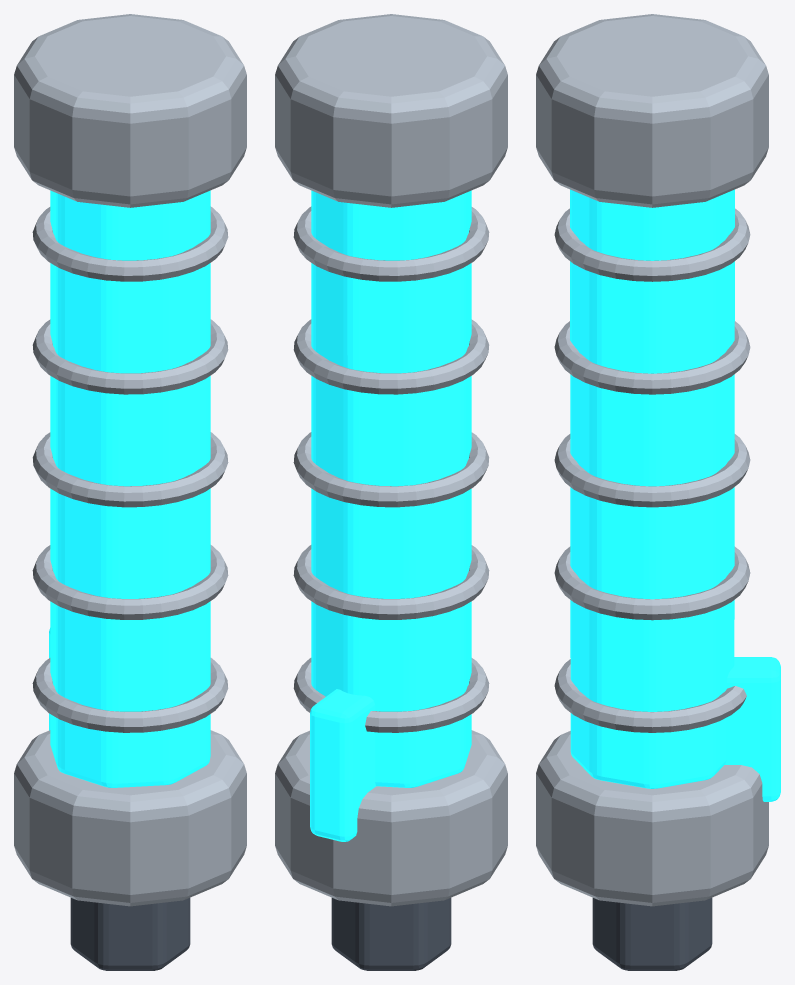
The model's file is energy-rod.glb.
3 renders of one model, left to right at view 1: azimuth 30°, elevation 25°; view 2: azimuth 150°, elevation 25°; view 3: azimuth 270°, elevation 25°, orthographic.
Visible parts, largest first — view 1: EnergyRod_Core, EnergyRod_Cap_Top, EnergyRod_Cap_Bottom, EnergyRod_Key, EnergyRod_CellRing_1, EnergyRod_CellRing_5, EnergyRod_CellRing_3, EnergyRod_CellRing_2, EnergyRod_CellRing_4; view 2: EnergyRod_Core, EnergyRod_Cap_Top, EnergyRod_Cap_Bottom, EnergyRod_DirectionFin, EnergyRod_Key, EnergyRod_CellRing_5, EnergyRod_CellRing_3, EnergyRod_CellRing_2, EnergyRod_CellRing_4, EnergyRod_CellRing_1; view 3: EnergyRod_Core, EnergyRod_Cap_Top, EnergyRod_Cap_Bottom, EnergyRod_Key, EnergyRod_DirectionFin, EnergyRod_CellRing_2, EnergyRod_CellRing_3, EnergyRod_CellRing_4, EnergyRod_CellRing_5, EnergyRod_CellRing_1.
Boxes of the visible parts, x1=… form: EnergyRod_Core: x1=50, y1=190, x2=210, y2=787; EnergyRod_Cap_Top: x1=14, y1=14, x2=246, y2=207; EnergyRod_Cap_Bottom: x1=14, y1=730, x2=246, y2=906; EnergyRod_Key: x1=70, y1=898, x2=190, y2=970; EnergyRod_CellRing_1: x1=32, y1=658, x2=228, y2=732; EnergyRod_CellRing_5: x1=32, y1=206, x2=228, y2=281; EnergyRod_CellRing_3: x1=32, y1=432, x2=228, y2=507; EnergyRod_CellRing_2: x1=32, y1=545, x2=228, y2=619; EnergyRod_CellRing_4: x1=32, y1=319, x2=228, y2=394; EnergyRod_Core: x1=311, y1=190, x2=471, y2=787; EnergyRod_Cap_Top: x1=275, y1=14, x2=507, y2=207; EnergyRod_Cap_Bottom: x1=275, y1=730, x2=507, y2=906; EnergyRod_DirectionFin: x1=310, y1=689, x2=376, y2=841; EnergyRod_Key: x1=331, y1=898, x2=451, y2=970; EnergyRod_CellRing_5: x1=293, y1=206, x2=489, y2=281; EnergyRod_CellRing_3: x1=293, y1=432, x2=489, y2=507; EnergyRod_CellRing_2: x1=293, y1=545, x2=489, y2=619; EnergyRod_CellRing_4: x1=293, y1=319, x2=489, y2=394; EnergyRod_CellRing_1: x1=293, y1=658, x2=489, y2=732; EnergyRod_Core: x1=570, y1=189, x2=734, y2=788; EnergyRod_Cap_Top: x1=536, y1=14, x2=768, y2=207; EnergyRod_Cap_Bottom: x1=536, y1=731, x2=768, y2=906; EnergyRod_Key: x1=592, y1=898, x2=712, y2=970; EnergyRod_DirectionFin: x1=725, y1=657, x2=780, y2=801; EnergyRod_CellRing_2: x1=554, y1=546, x2=750, y2=620; EnergyRod_CellRing_3: x1=554, y1=434, x2=750, y2=507; EnergyRod_CellRing_4: x1=554, y1=321, x2=750, y2=394; EnergyRod_CellRing_5: x1=554, y1=208, x2=750, y2=281; EnergyRod_CellRing_1: x1=554, y1=659, x2=746, y2=732.
Bounding box in the file's own units: 0.29 × 1.23 × 0.305.
